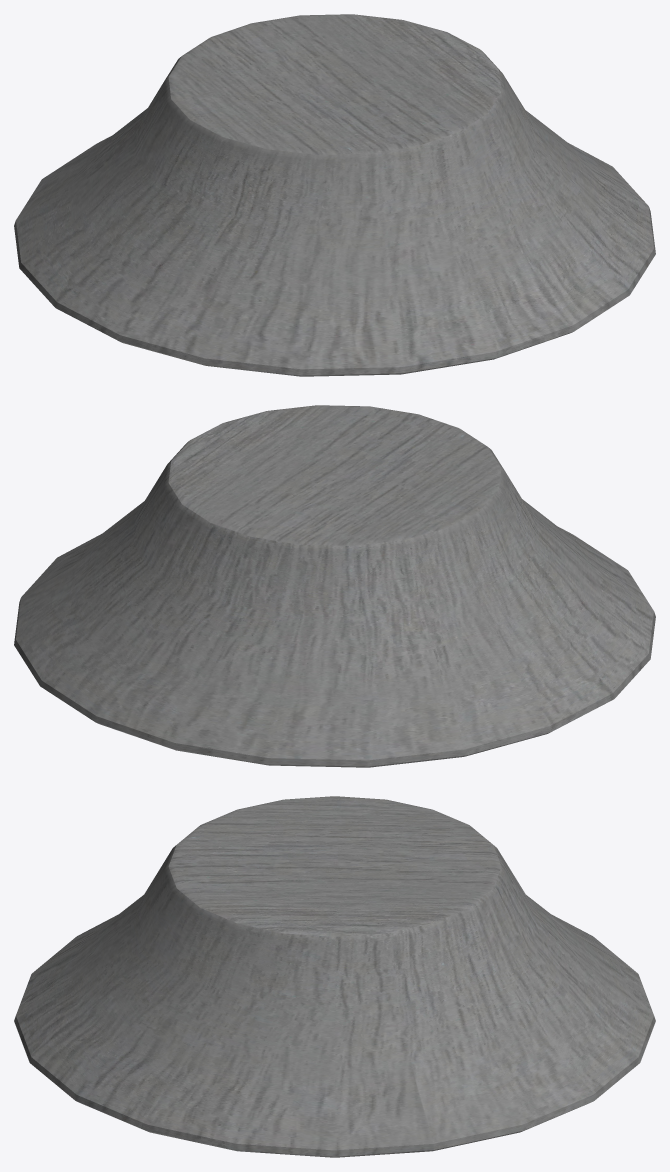
Rendered from Bblock.obj.
3 renders of one model, top to bottom at view 1: azimuth 30°, elevation 25°; view 2: azimuth 150°, elevation 25°; view 3: azimuth 270°, elevation 25°, orthographic.
Parts seen in each view (by area): view 1: pCylinder1; view 2: pCylinder1; view 3: pCylinder1.
Boxes of the visible parts, x1=… form: pCylinder1: x1=14, y1=14, x2=655, y2=376; pCylinder1: x1=14, y1=405, x2=655, y2=767; pCylinder1: x1=14, y1=796, x2=655, y2=1157.
Bounding box in the file's own units: 1.93 × 0.5289 × 1.93.
Materials: 1 (1 with a texture image).
